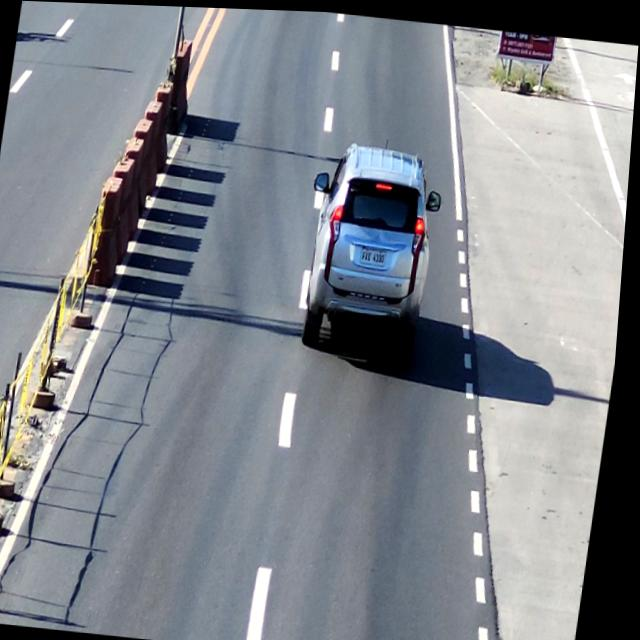Car: (300, 137, 450, 366)
License-Plate: (361, 242, 393, 273)
